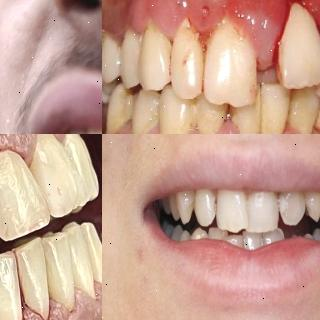Gum Swelling: (131, 0, 320, 70)
calculus: (138, 14, 176, 78), (206, 4, 254, 47), (226, 91, 274, 134), (172, 13, 210, 63), (156, 100, 200, 134), (102, 94, 136, 134), (125, 99, 163, 134)
cavities: (205, 196, 223, 222)
maligned: (268, 3, 320, 93), (215, 186, 250, 232), (307, 24, 320, 95), (176, 186, 197, 226), (224, 232, 244, 254), (207, 224, 229, 242)
